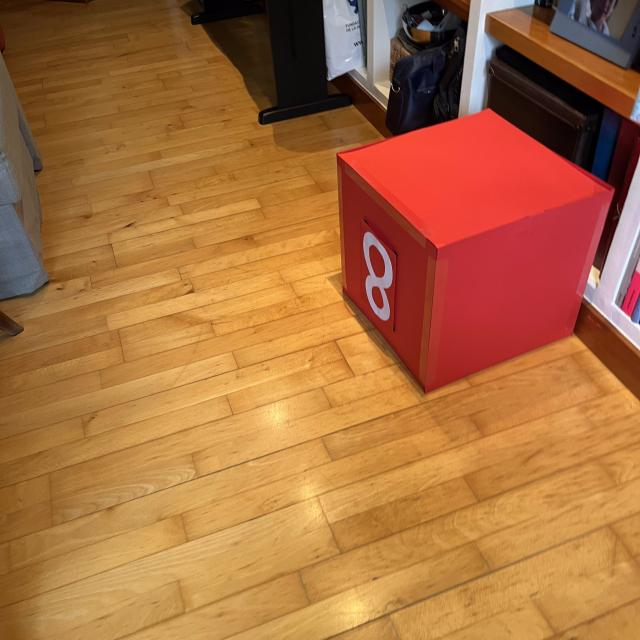box: (331, 105, 615, 395)
